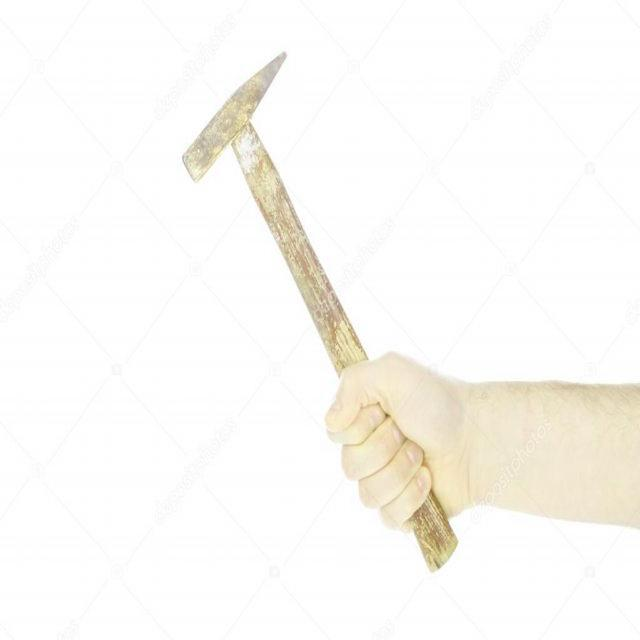hammer: (176, 42, 462, 582)
